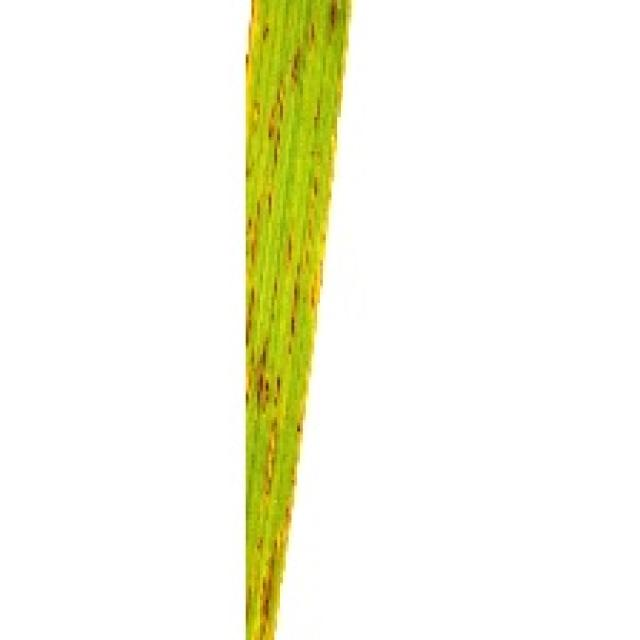Unhealthy: (259, 469, 295, 640), (268, 79, 286, 167), (251, 337, 270, 414), (262, 417, 278, 505), (245, 0, 258, 99), (291, 263, 301, 338), (291, 45, 304, 87), (246, 288, 255, 347), (327, 0, 337, 45), (251, 222, 258, 265), (251, 99, 261, 125), (314, 97, 321, 129), (274, 377, 281, 408), (308, 23, 315, 46), (263, 23, 269, 43), (268, 194, 272, 216), (246, 167, 252, 181), (274, 277, 278, 297), (314, 177, 318, 195), (311, 286, 314, 309), (288, 240, 291, 261), (257, 200, 260, 220), (246, 389, 249, 408), (248, 217, 252, 229)
